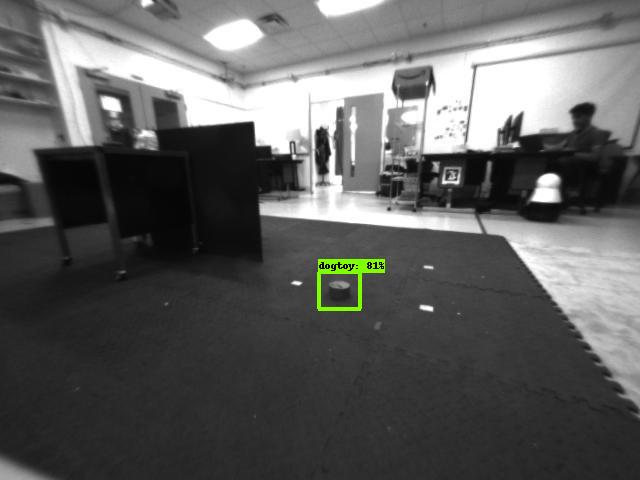dogtoy: (319, 272, 362, 307)
